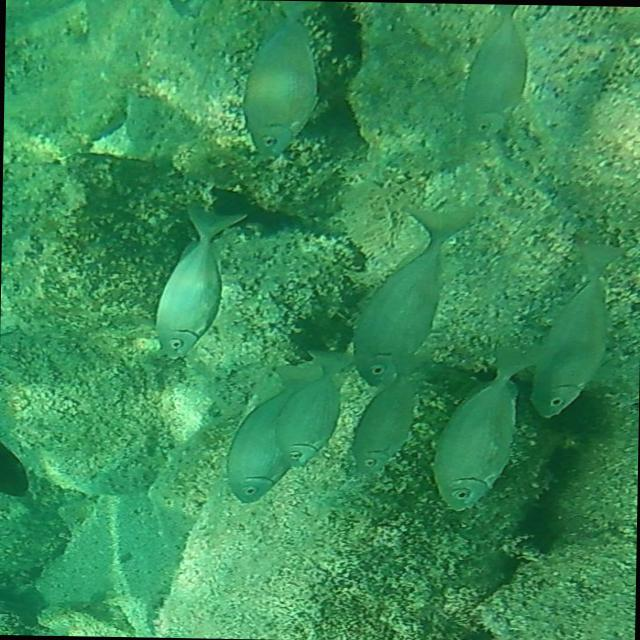Sokar Baligi: (422, 328, 540, 522), (140, 194, 270, 358), (224, 0, 350, 162), (441, 2, 556, 152)
